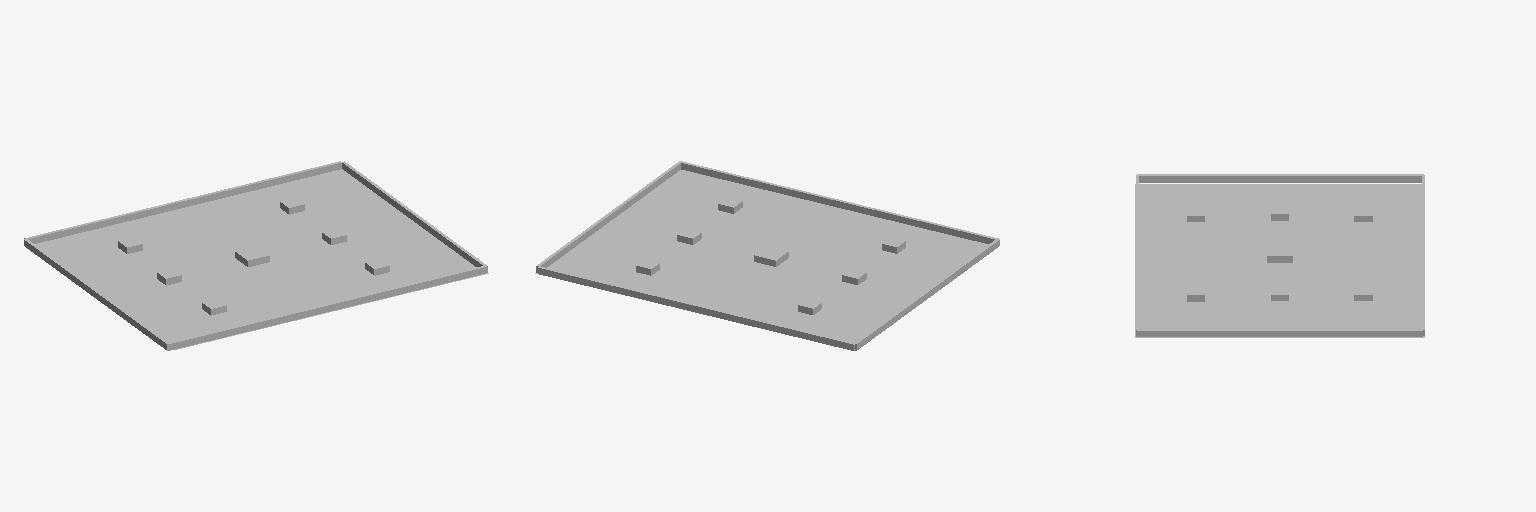
The model's file is TestLevel01.obj.
3 views of the same model, side by side, from view 1: azimuth 30°, elevation 25°; view 2: azimuth 150°, elevation 25°; view 3: azimuth 270°, elevation 25° (orthographic).
Parts seen in each view (by area): view 1: floor, forwardWall, behindWall, rightWall, leftWall; view 2: floor, behindWall, forwardWall, rightWall, leftWall; view 3: floor, rightWall, leftWall.
Part boxes in pixels (bbox=[...]): floor: bbox=[35, 169, 488, 349]; forwardWall: bbox=[168, 266, 487, 350]; behindWall: bbox=[24, 161, 341, 243]; rightWall: bbox=[24, 239, 168, 350]; leftWall: bbox=[342, 161, 487, 266]; floor: bbox=[535, 170, 988, 342]; behindWall: bbox=[538, 266, 855, 350]; forwardWall: bbox=[681, 161, 998, 243]; rightWall: bbox=[855, 239, 999, 350]; leftWall: bbox=[536, 161, 681, 272]; floor: bbox=[1135, 184, 1424, 337]; rightWall: bbox=[1137, 174, 1423, 182]; leftWall: bbox=[1137, 329, 1422, 336].
Size of the model in its own units: 1020 by 20.91 by 801.